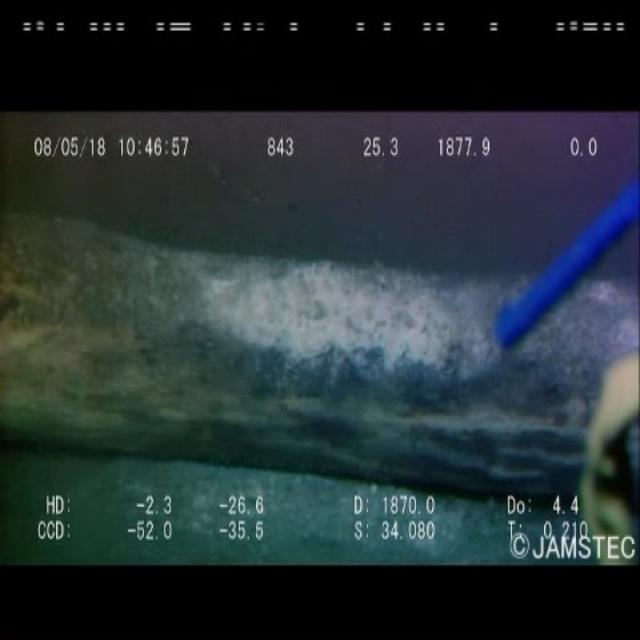Wood: (1, 183, 640, 523)
